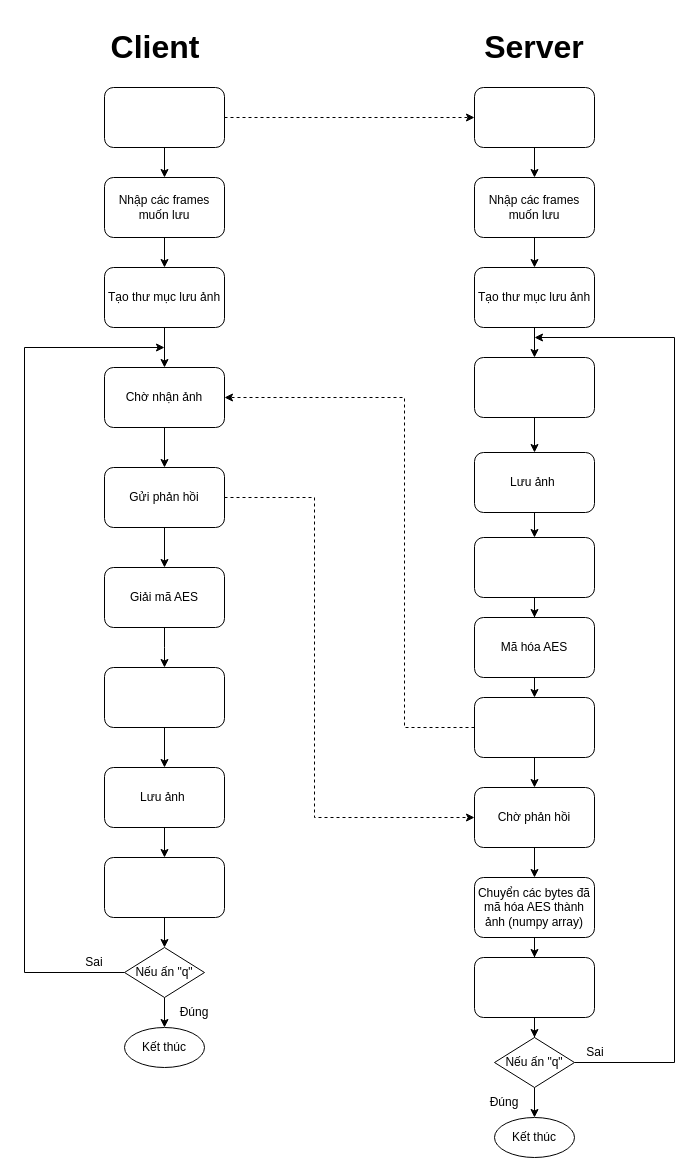
Some shapes in this 700 by 1175 pixel diagram are drawn without their labels. The shapes that lost their labels are listed below. From the top down, each one's box as (x1, y1, x2, y2) in pixels, then its label:
(104, 86, 224, 148): Gửi yêu cầu cho chức năng gửi ảnh
(474, 86, 594, 148): Chờ yêu cầu
(474, 356, 594, 418): Đọc ảnh từ camera
(474, 536, 594, 598): Chuyển ảnh từ numpy array sang bytes
(104, 666, 224, 728): Chuyển các bytes đã được giải mã AES thành ảnh (numpy array)
(474, 696, 594, 758): Gửi ảnh
(104, 856, 224, 918): Hiện lên ảnh đã được giải mã
(474, 956, 594, 1018): Hiện lên ảnh đã được mã hóa
